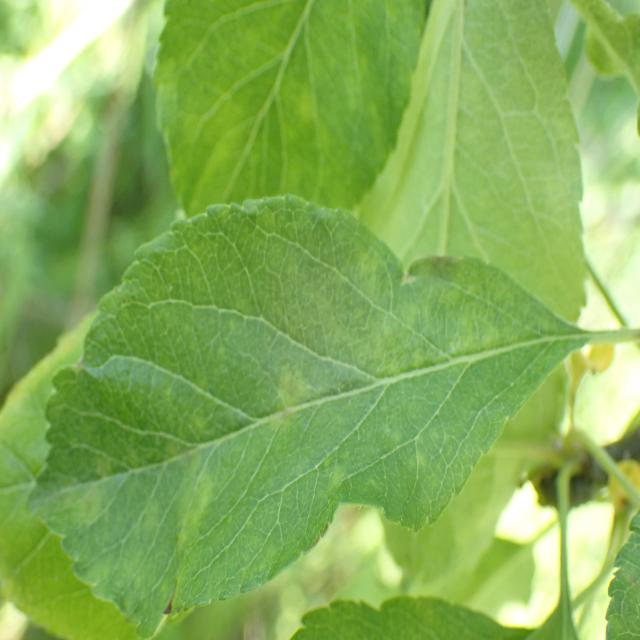scab: (55, 249, 511, 578)
